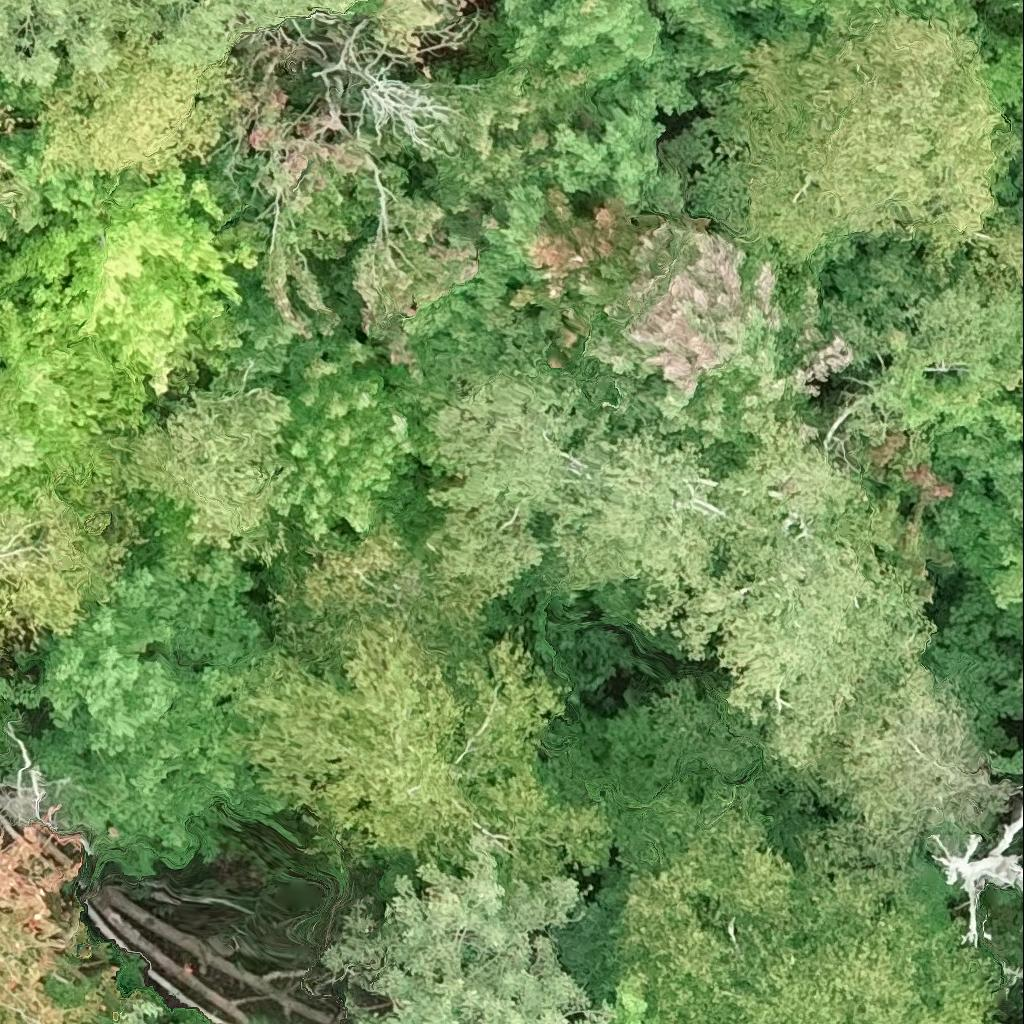crown: (237, 529, 612, 883), (502, 0, 975, 226), (228, 43, 570, 351), (609, 790, 1008, 1023), (684, 417, 934, 777), (412, 366, 731, 636), (36, 508, 286, 851), (728, 6, 1023, 285), (529, 195, 850, 438), (0, 155, 253, 409), (326, 824, 588, 1023), (887, 332, 1023, 685), (820, 661, 1009, 881), (124, 368, 290, 560), (0, 305, 149, 513), (268, 336, 419, 541), (30, 39, 240, 182), (827, 253, 1023, 387), (0, 821, 113, 1023), (0, 490, 140, 646), (0, 0, 224, 83), (933, 558, 1023, 738), (242, 520, 363, 646), (930, 811, 1023, 942), (188, 0, 367, 36), (980, 46, 1023, 117), (0, 159, 42, 213), (1000, 142, 1023, 232), (615, 982, 651, 1023), (1003, 742, 1023, 776), (0, 118, 15, 137)
